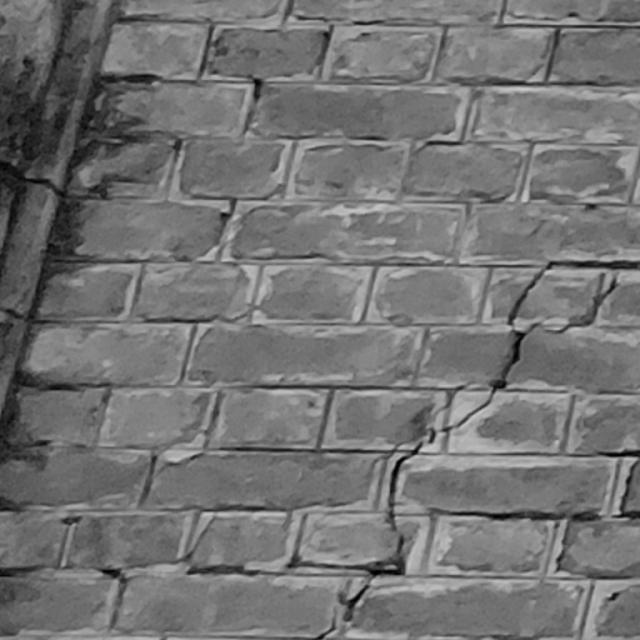crack: (318, 260, 639, 640)
